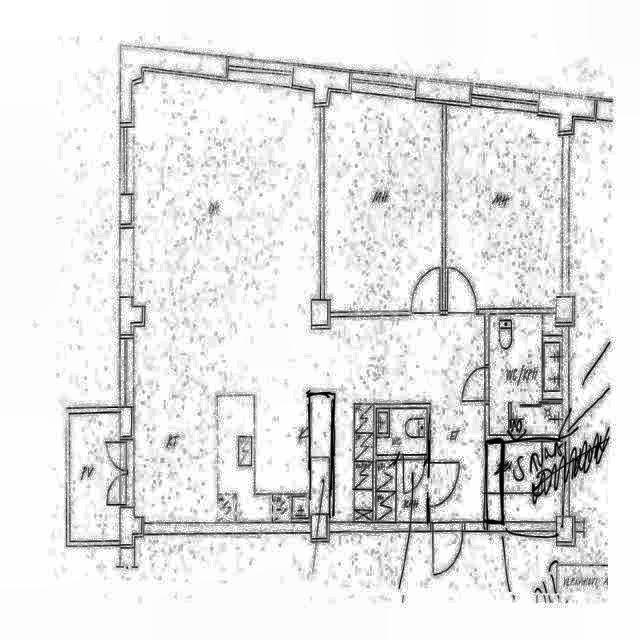room: (324, 92, 442, 312), (445, 104, 563, 311), (489, 314, 563, 435), (376, 460, 428, 523), (376, 408, 427, 455)
